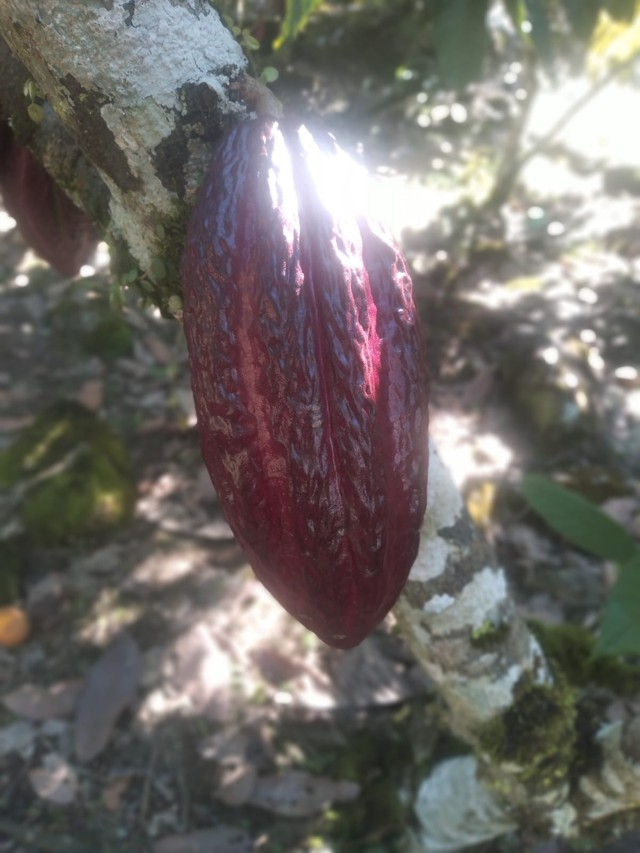Health: (157, 95, 442, 653)
